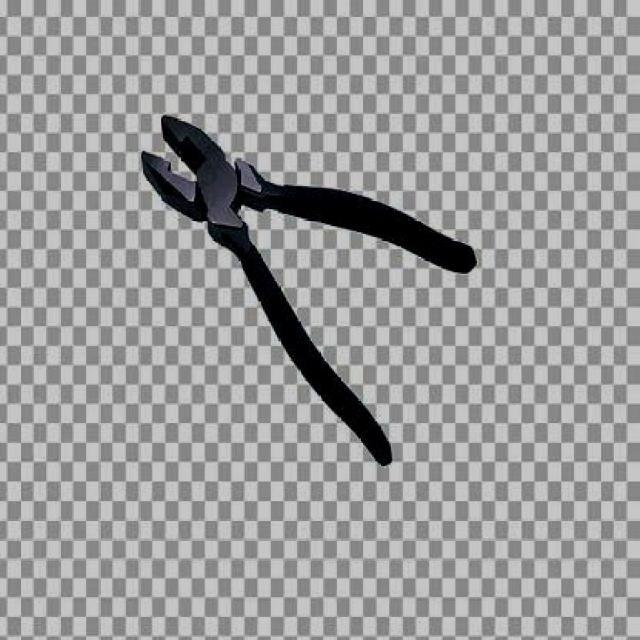pliers: (137, 105, 486, 470)
